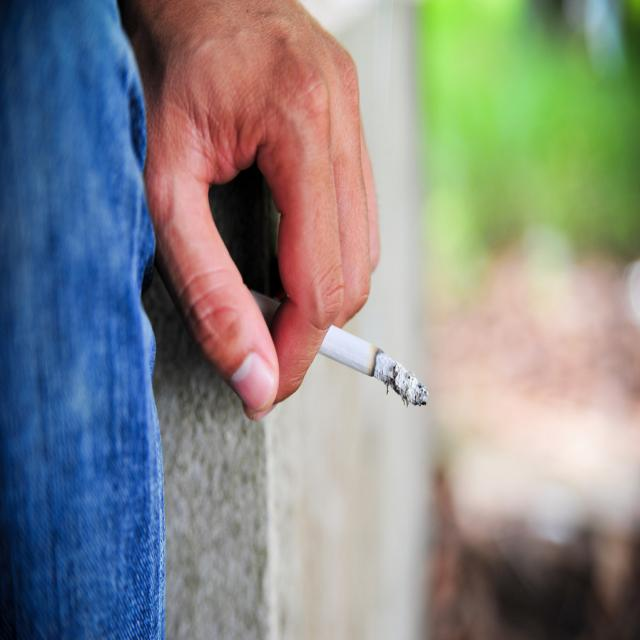smoking: (184, 280, 427, 410)
